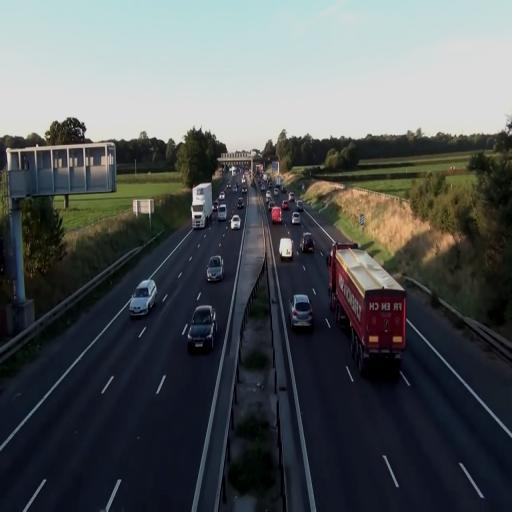vehicle: (329, 243, 408, 376), (330, 242, 408, 376), (187, 305, 216, 352), (128, 278, 157, 318), (192, 182, 214, 229), (191, 182, 213, 228), (290, 293, 314, 331), (205, 256, 224, 282), (278, 237, 294, 261), (301, 233, 314, 255), (290, 206, 304, 226), (270, 204, 282, 225), (230, 214, 241, 230)
